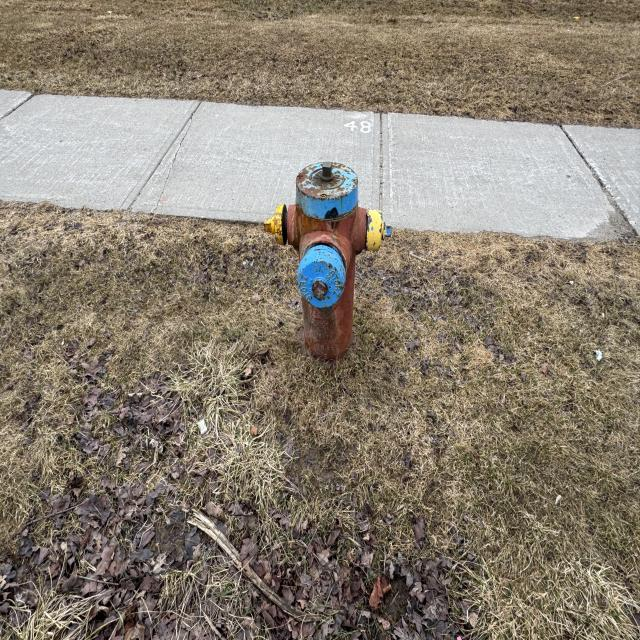Fire hydrant: (263, 161, 393, 372)
